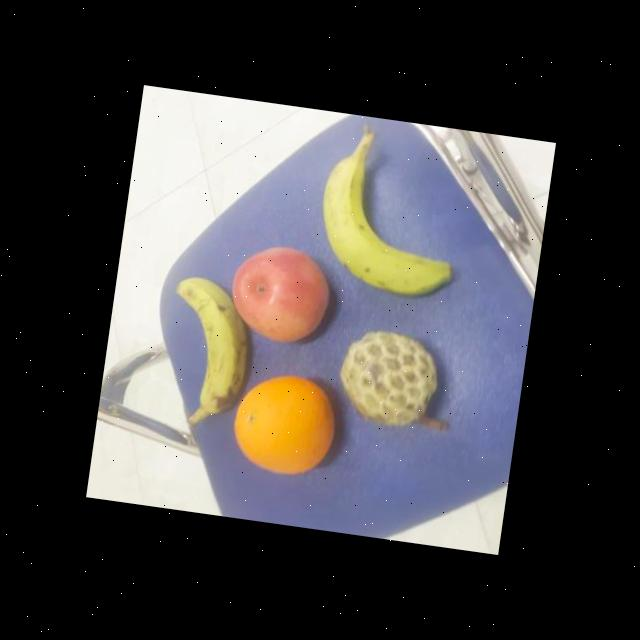Sakya fruit: (330, 322, 446, 437)
apple: (219, 238, 336, 353)
banana: (308, 146, 467, 304), (152, 272, 258, 421)
orange: (226, 368, 340, 484)
